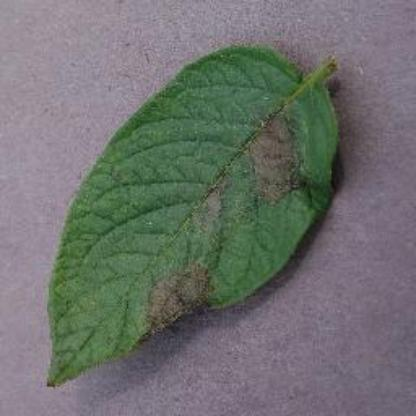Late-Blight: (43, 33, 343, 392)
